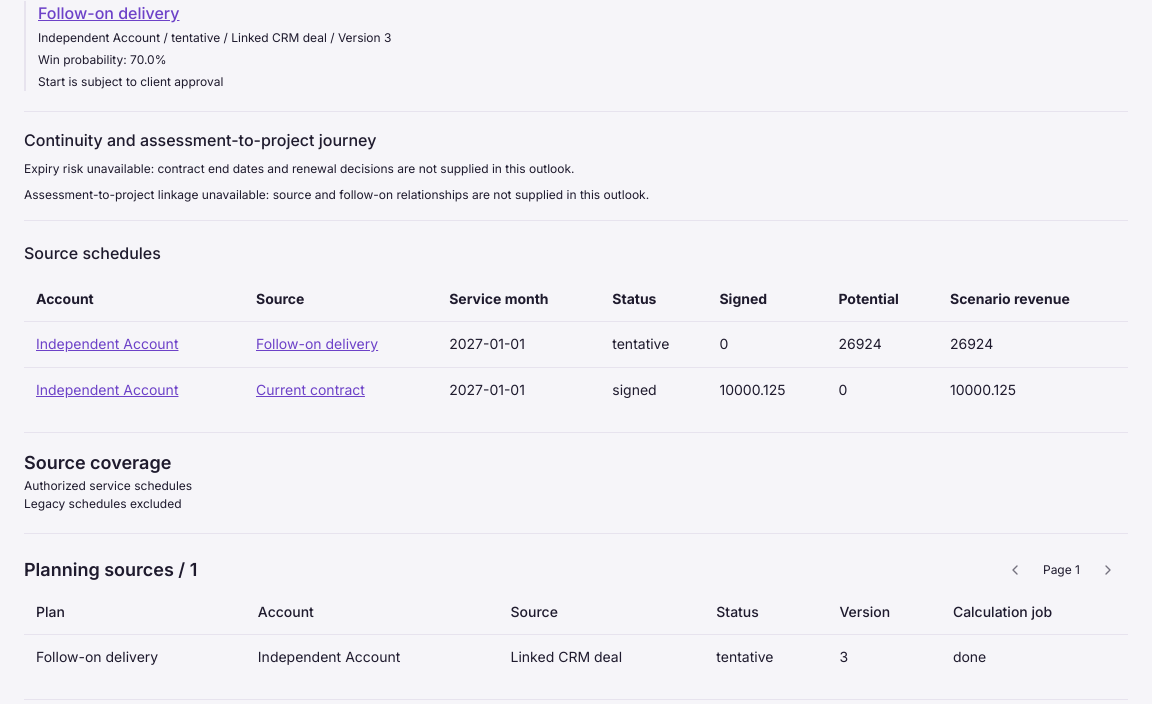
Test: Independent Forecast Overview boundaries › shows the supplied original currency and FX date alongside the conversion version
(page scrolled)
Step 1. Click the button "Follow-on delivery" → point(317, 344), box [256,334,378,355]
(page scrolled)
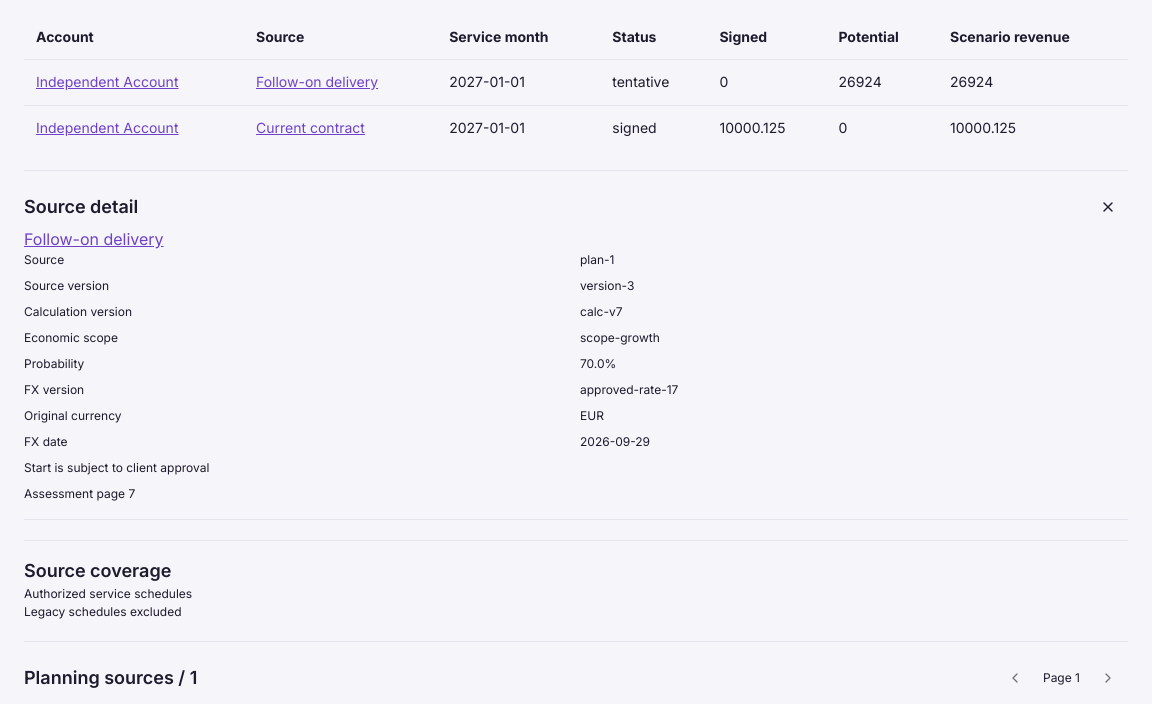
Now the element "Source detail" shows "approved-rate-17", box [580,382,678,397]
Now the element "Source detail" shows "EUR", box [580,408,604,423]
Now the element "Source detail" shows "2026-09-29", box [580,434,650,449]
